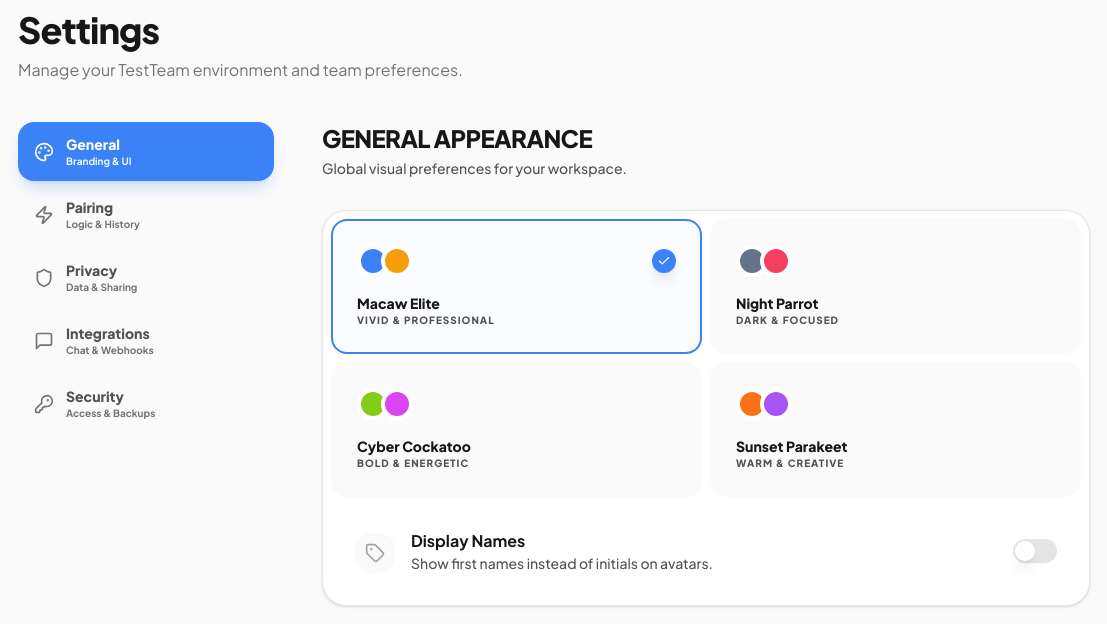
Test: SettingsScreen Component › shows webhook validation errors and accepts valid https urls
The width and height of the screenshot is (1107, 624).
Step 1. Click the text "Integrations" → (110, 333), box [66,323,154,343]
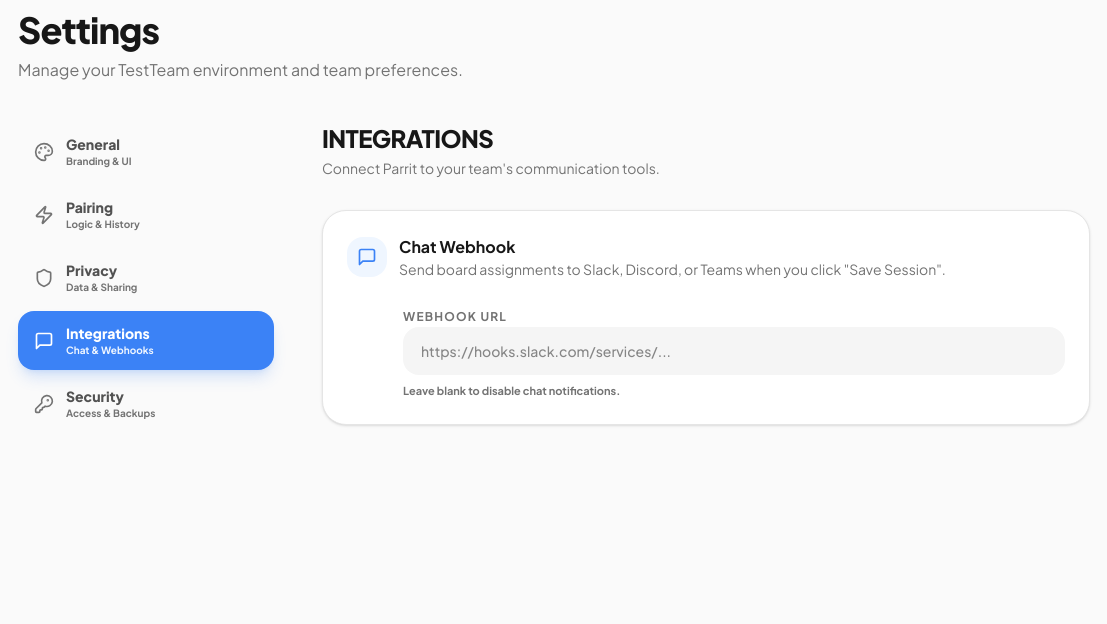
Step 2. Type "http://hooks.slack.com/foo" into the field with placeholder "https://hooks.slack.com/services/..." → (734, 351), box [403,327,1065,375]
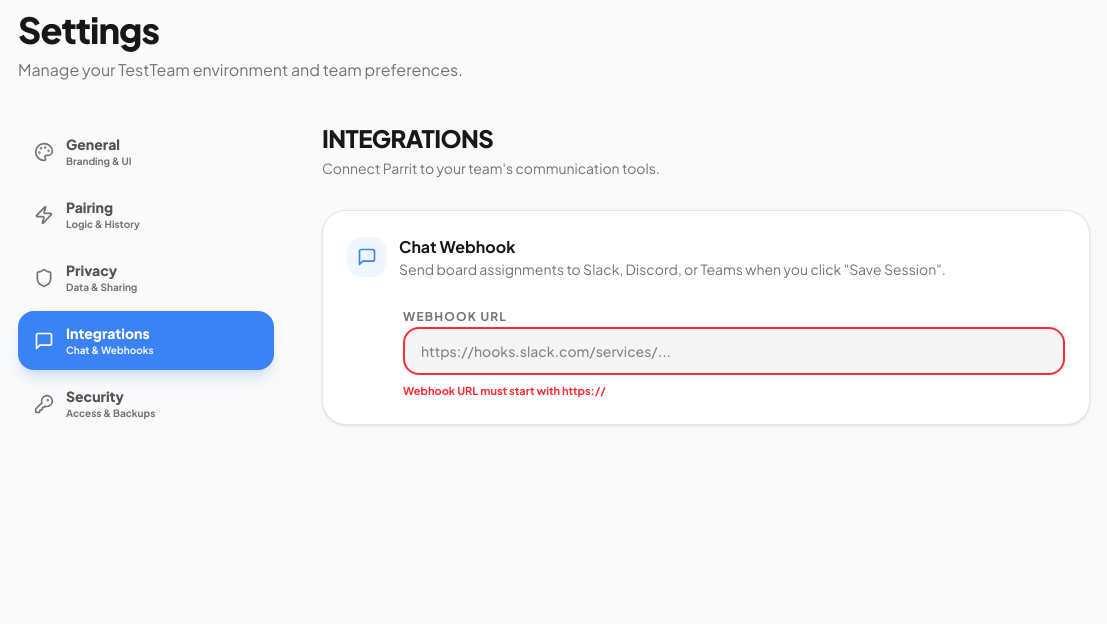
Expected: the text "Webhook URL must start with https://" is shown, [403,384,606,397]
Step 3. Type "https://hooks.slack.com/foo" into the field with placeholder "https://hooks.slack.com/services/..." → (734, 351), box [403,327,1065,375]
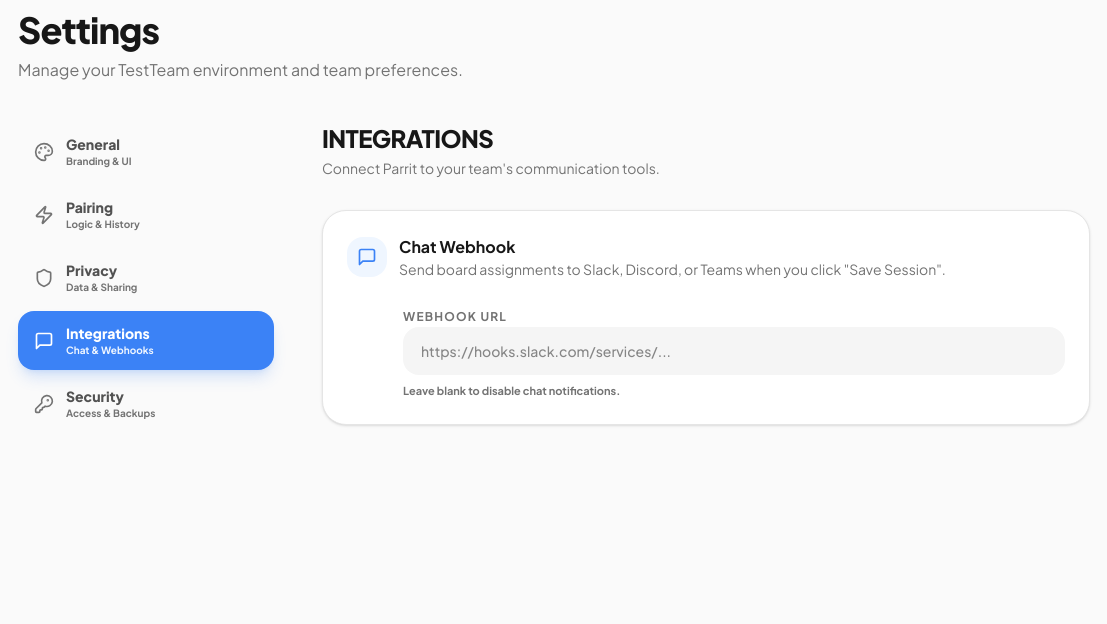
Expected: the text "Leave blank to disable chat notifications." is shown, [403,384,620,397]
